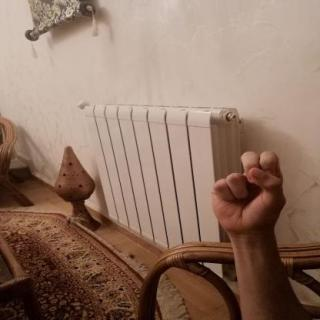QAAF: (200, 143, 296, 239)
